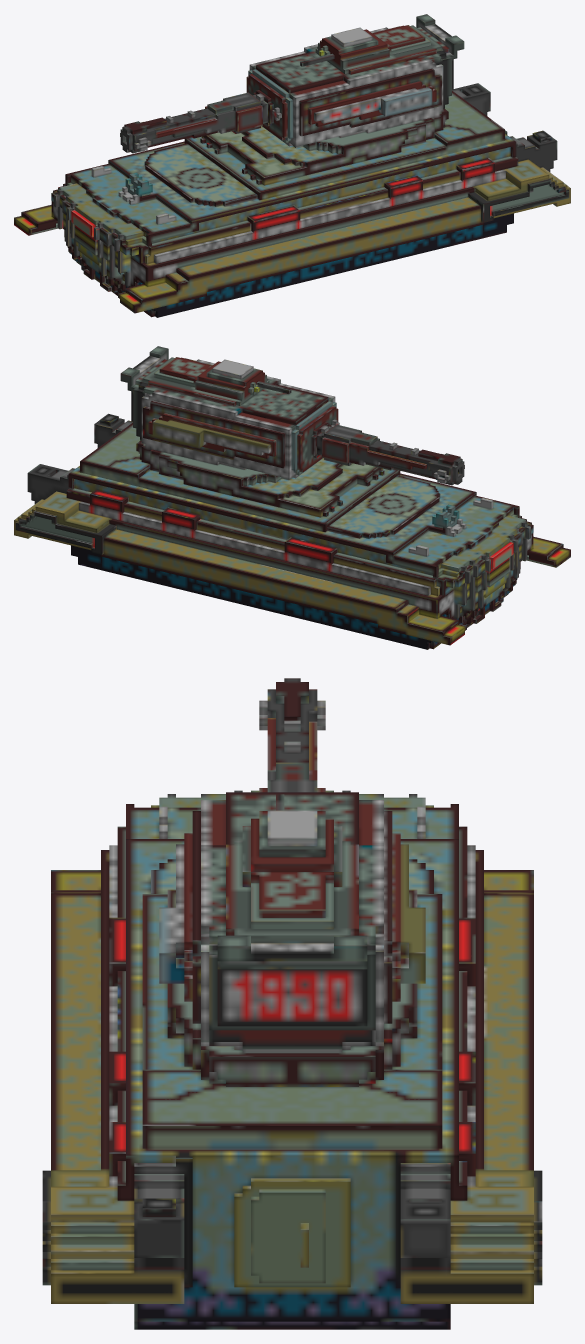
File: Light 1.fbx
3 views of the same model, one above another, from view 1: azimuth 30°, elevation 25°; view 2: azimuth 150°, elevation 25°; view 3: azimuth 270°, elevation 25° (orthographic). The views are drawn at different scales.
Parts seen in each view (by area): view 1: Untitled; view 2: Untitled; view 3: Untitled.
Part boxes in pixels (box(x1,y1,x2,y2)): Untitled: box(14, 14, 570, 317); Untitled: box(14, 346, 570, 649); Untitled: box(42, 678, 542, 1329).
Bounding box in the file's own units: 1230 × 520 × 600.
